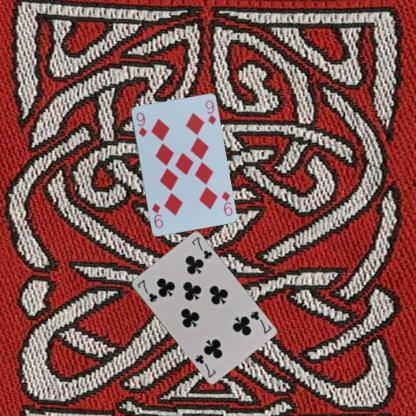7c: (247, 308, 273, 335), (135, 276, 158, 304)
9d: (133, 110, 148, 138), (219, 188, 233, 218)
